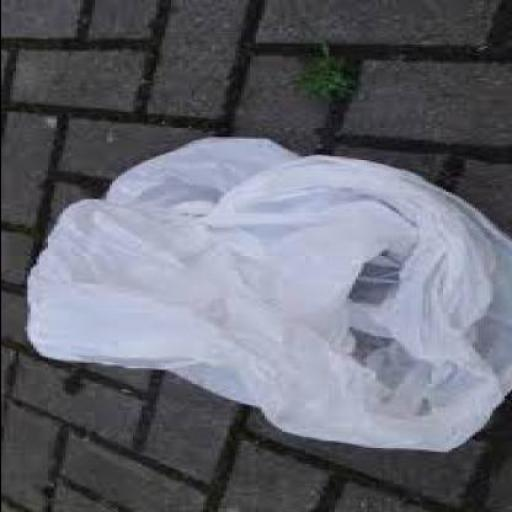plastic: (20, 135, 509, 450)
